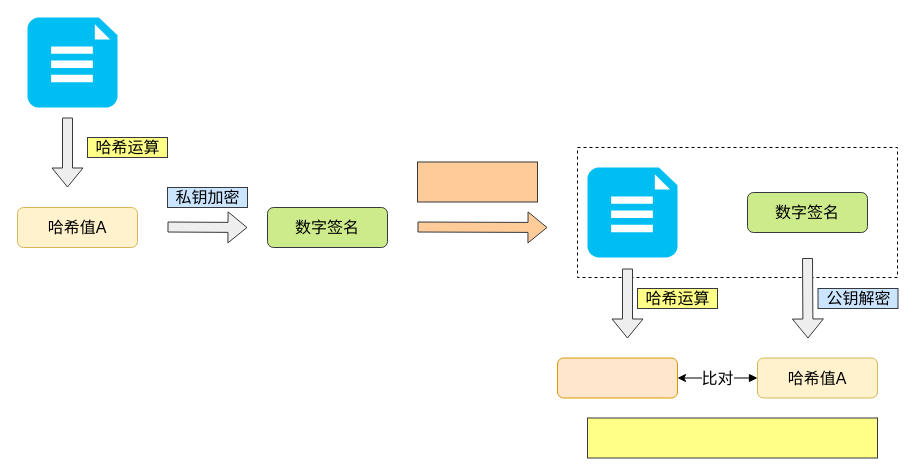
This 916x475 diagram has some shape labels left out. Each missing label, with the centre of its shape:
"1. 如果，相同就证明消息是完整的 2. 如果不同，则说明消息可能被篡改过" goes at (732,437).
"内容+哈希值 A 一同发送出去" goes at (477,181).
"哈希值B" goes at (617,377).
